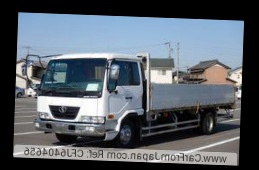truck: (34, 46, 238, 151)
